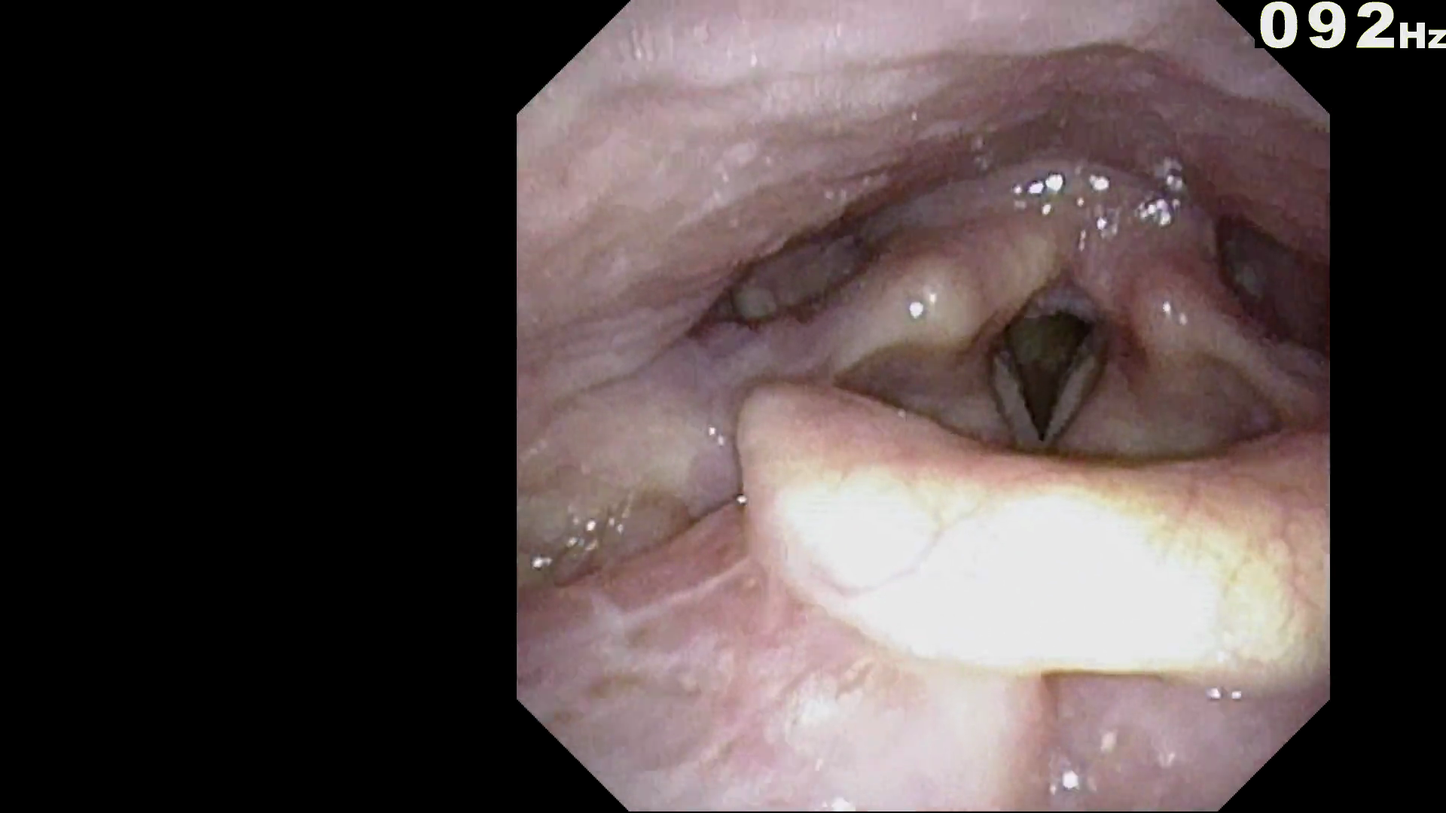epiglottis: (690, 352, 1325, 660)
trachea: (941, 266, 1121, 476)
